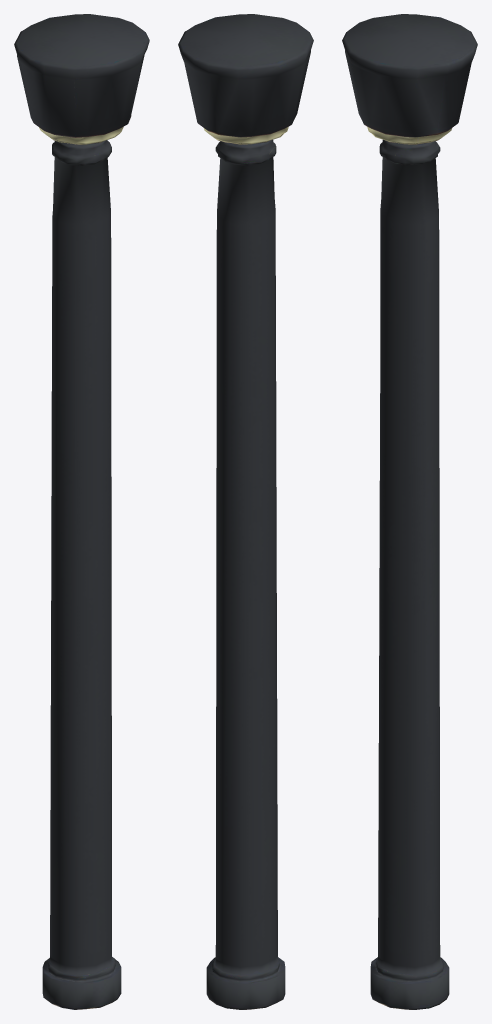
The model's file is path-lamp-modern-tripo-original.glb.
3 renders of one model, left to right at view 1: azimuth 30°, elevation 25°; view 2: azimuth 210°, elevation 25°; view 3: azimuth 330°, elevation 25°, orthographic.
Parts seen in each view (by area): view 1: tripo_node_2efe4b42-80b9-4819-993c-83993e9d5236; view 2: tripo_node_2efe4b42-80b9-4819-993c-83993e9d5236; view 3: tripo_node_2efe4b42-80b9-4819-993c-83993e9d5236.
Boxes of the visible parts, x1=… form: tripo_node_2efe4b42-80b9-4819-993c-83993e9d5236: x1=14, y1=14, x2=149, y2=1009; tripo_node_2efe4b42-80b9-4819-993c-83993e9d5236: x1=178, y1=14, x2=313, y2=1009; tripo_node_2efe4b42-80b9-4819-993c-83993e9d5236: x1=342, y1=14, x2=477, y2=1009.
Size of the model in its own units: 0.1272 by 1 by 0.1233.
Materials: 1 (1 with a texture image).
